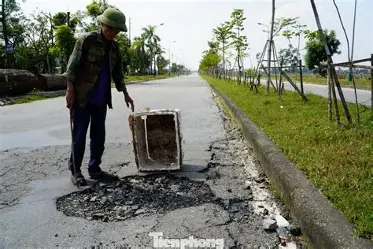POTHOLE: (55, 165, 220, 222)
ROAD_CRACK: (210, 135, 260, 185)
ROAD_OBSTACLE: (128, 104, 182, 168)
